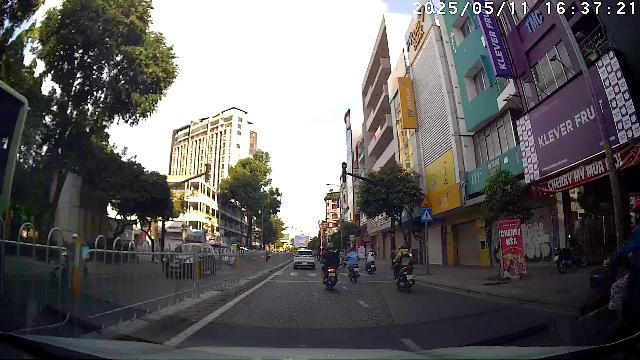423a-duong-nguoi-di-bo-sang-ngang-1: (420, 209, 432, 221)
